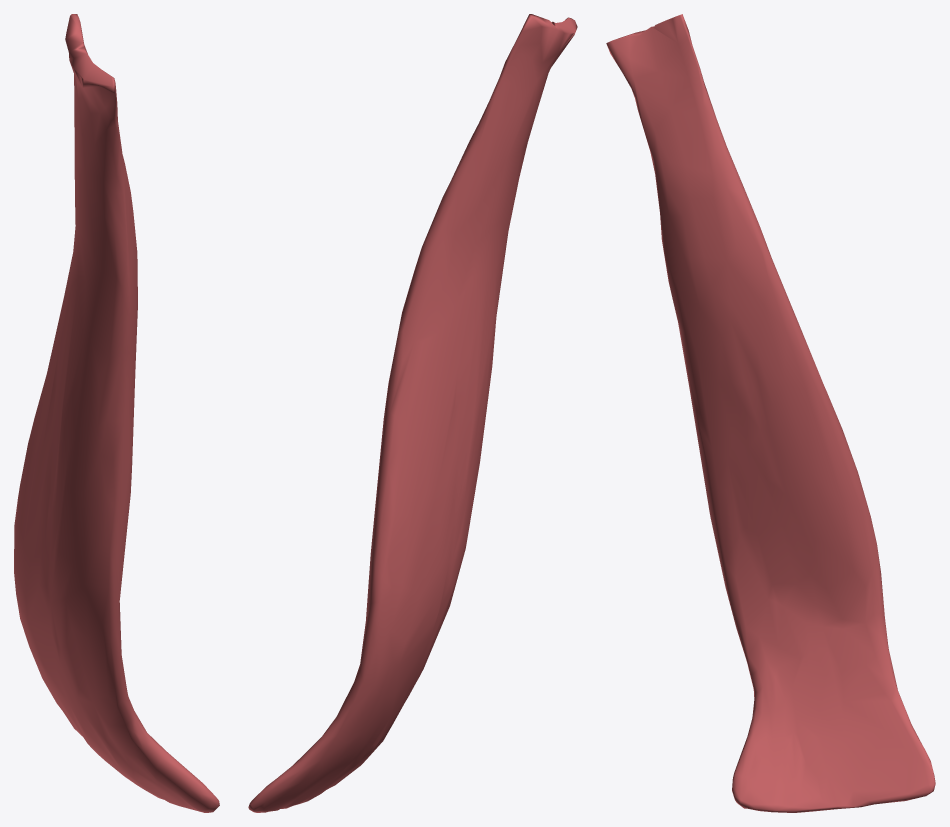
3 views of the same model, side by side, from view 1: azimuth 30°, elevation 25°; view 2: azimuth 150°, elevation 25°; view 3: azimuth 270°, elevation 25° (orthographic). The views are drawn at different scales.
Parts seen in each view (by area): view 1: 左侧内直肌; view 2: 左侧内直肌; view 3: 左侧内直肌.
Boxes of the visible parts, x1,y1,x2,y2 form: 左侧内直肌: (14, 14, 219, 812); 左侧内直肌: (248, 14, 577, 812); 左侧内直肌: (606, 14, 935, 812).
Size of the model in its own units: 0.0148 by 0.0595 by 0.0244.
